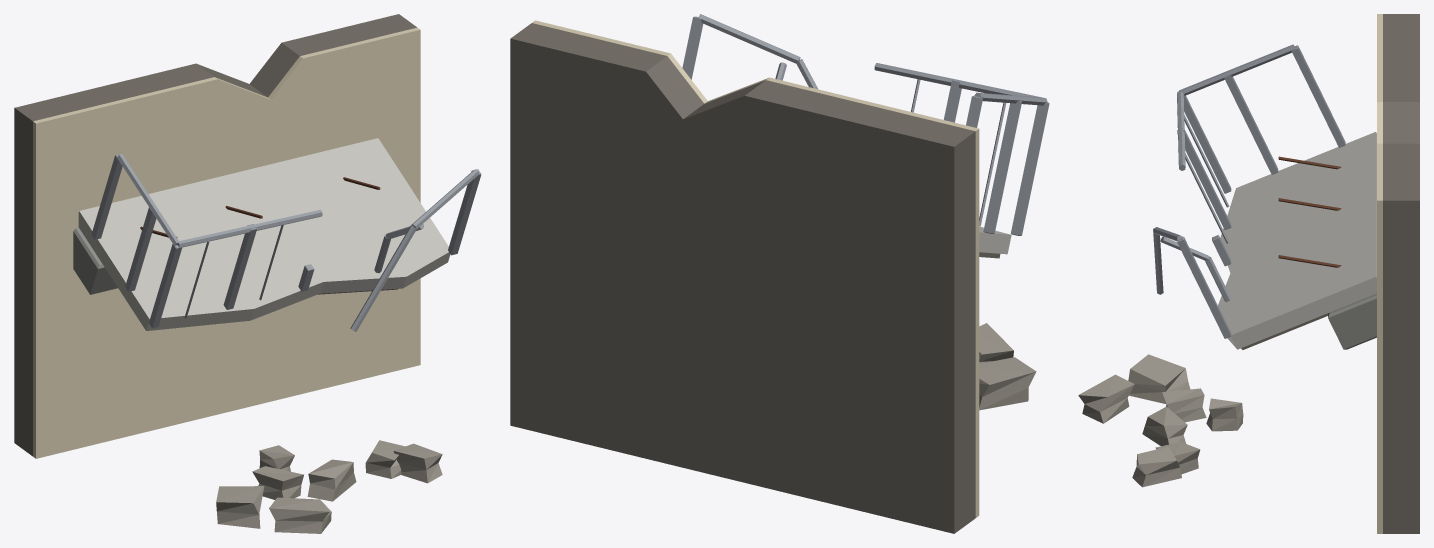
The model's file is DESTROY_05.obj.
The picture shows the model from 3 angles, left to right: view 1: azimuth 30°, elevation 25°; view 2: azimuth 150°, elevation 25°; view 3: azimuth 270°, elevation 25°; orthographic projection. The views are drawn at different scales.
Visible parts, largest first — view 1: DESTROY_05__wall_skin, DESTROY_05__slab, DESTROY_05__wall_core, DESTROY_05__rubble, DESTROY_05__post, DESTROY_05__side_post, DESTROY_05__corbel, DESTROY_05__rail_top_right, DESTROY_05__rail_top_left, DESTROY_05__side_rail; view 2: DESTROY_05__wall_core, DESTROY_05__wall_skin, DESTROY_05__rubble, DESTROY_05__post, DESTROY_05__side_post, DESTROY_05__rail_top_right, DESTROY_05__rail_top_left, DESTROY_05__slab; view 3: DESTROY_05__slab, DESTROY_05__wall_core, DESTROY_05__rubble, DESTROY_05__wall_skin, DESTROY_05__post, DESTROY_05__side_post, DESTROY_05__corbel, DESTROY_05__side_rail, DESTROY_05__wall_rebar, DESTROY_05__baluster, DESTROY_05__rail_top_right, DESTROY_05__post_bent (+1 smaller).
Part boxes in pixels (<box>): DESTROY_05__wall_skin: <box>33,27,420,458</box>; DESTROY_05__slab: <box>78,138,450,330</box>; DESTROY_05__wall_core: <box>14,14,416,456</box>; DESTROY_05__rubble: <box>216,440,442,533</box>; DESTROY_05__post: <box>149,169,481,328</box>; DESTROY_05__side_post: <box>91,153,156,291</box>; DESTROY_05__corbel: <box>73,227,117,294</box>; DESTROY_05__rail_top_right: <box>350,169,479,331</box>; DESTROY_05__rail_top_left: <box>178,209,322,247</box>; DESTROY_05__side_rail: <box>117,154,179,245</box>; DESTROY_05__wall_core: <box>510,23,975,533</box>; DESTROY_05__wall_skin: <box>532,20,979,517</box>; DESTROY_05__rubble: <box>979,323,1036,410</box>; DESTROY_05__post: <box>682,16,1049,235</box>; DESTROY_05__side_post: <box>966,96,1021,233</box>; DESTROY_05__rail_top_right: <box>698,14,817,89</box>; DESTROY_05__rail_top_left: <box>874,63,1045,98</box>; DESTROY_05__slab: <box>979,226,1011,254</box>; DESTROY_05__slab: <box>1218,132,1376,349</box>; DESTROY_05__wall_core: <box>1383,14,1419,533</box>; DESTROY_05__rubble: <box>1078,354,1243,487</box>; DESTROY_05__wall_skin: <box>1377,14,1382,533</box>; DESTROY_05__post: <box>1177,94,1231,338</box>; DESTROY_05__side_post: <box>1224,45,1345,174</box>; DESTROY_05__corbel: <box>1328,293,1376,349</box>; DESTROY_05__side_rail: <box>1179,44,1294,95</box>; DESTROY_05__wall_rebar: <box>1278,156,1341,267</box>; DESTROY_05__baluster: <box>1184,115,1229,243</box>; DESTROY_05__rail_top_right: <box>1153,227,1182,294</box>; DESTROY_05__post_bent: <box>1160,236,1231,301</box>.
Bounding box in the file's own units: 3.6 × 3 × 2.79.
